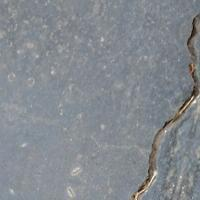crack: (114, 12, 199, 199)
